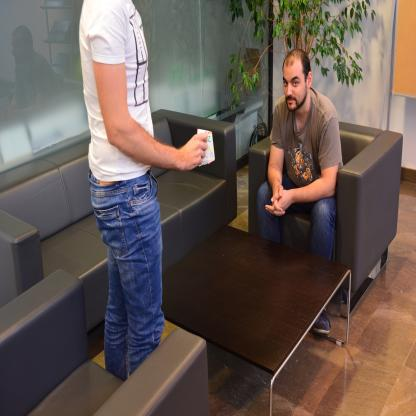billete: (197, 128, 214, 166)
